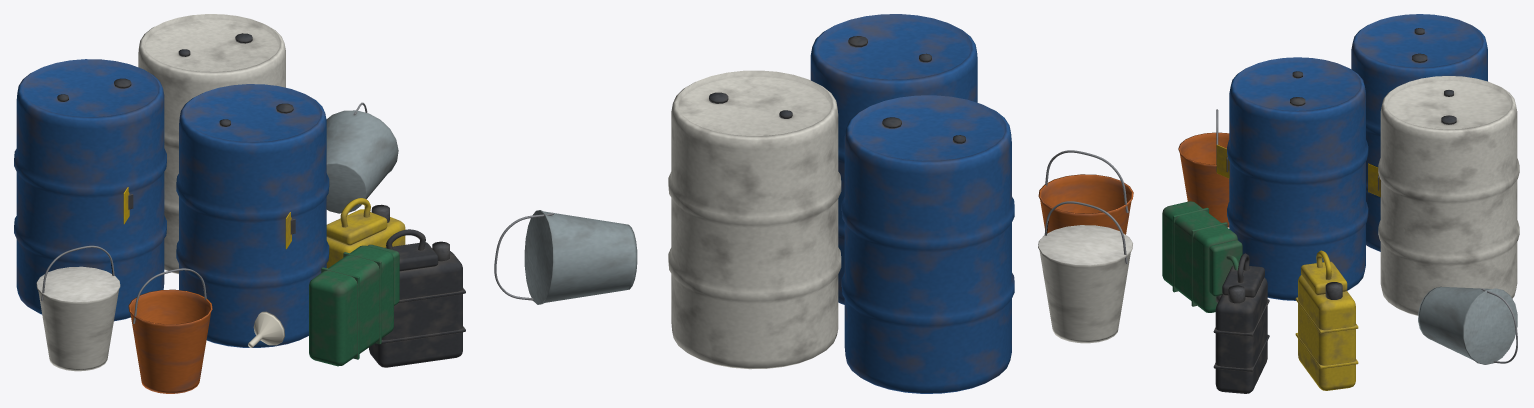
File: skr_chemia.glb
3 views of the same model, side by side, from view 1: azimuth 30°, elevation 25°; view 2: azimuth 150°, elevation 25°; view 3: azimuth 270°, elevation 25° (orthographic). The views are drawn at different scales.
Parts seen in each view (by area): view 1: Beczki, Wiadra, Kanistry, Lejek; view 2: Beczki, Wiadra; view 3: Beczki, Kanistry, Wiadra.
Boxes of the visible parts, x1,y1,x2,y2 form: Beczki: (14, 14, 329, 347); Wiadra: (36, 102, 398, 393); Kanistry: (309, 198, 465, 367); Lejek: (248, 311, 284, 347); Beczki: (668, 14, 1014, 393); Wiadra: (494, 150, 1133, 343); Beczki: (1216, 14, 1519, 315); Kanistry: (1162, 201, 1358, 393); Wiadra: (1178, 109, 1517, 364).
Bounding box in the file's own units: 1.94 × 1.06 × 1.47.
Materials: 4 (3 with a texture image).
